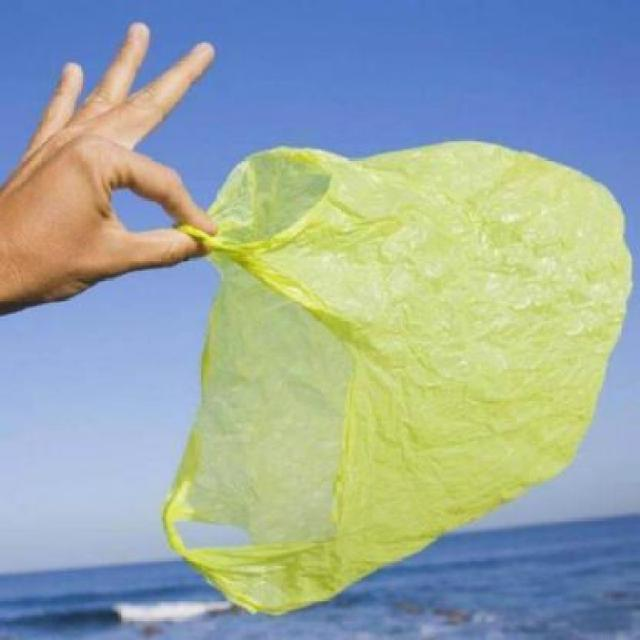plastic bag: (162, 145, 636, 616)
